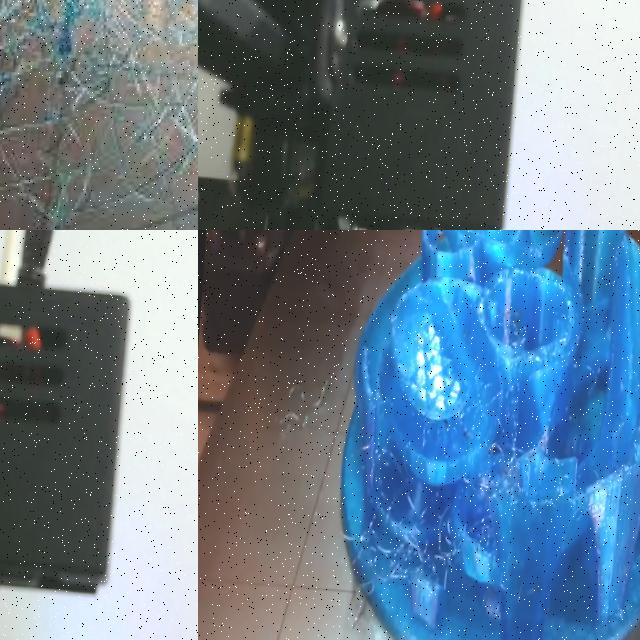spaghetti: (340, 293, 602, 640), (274, 374, 333, 439)
